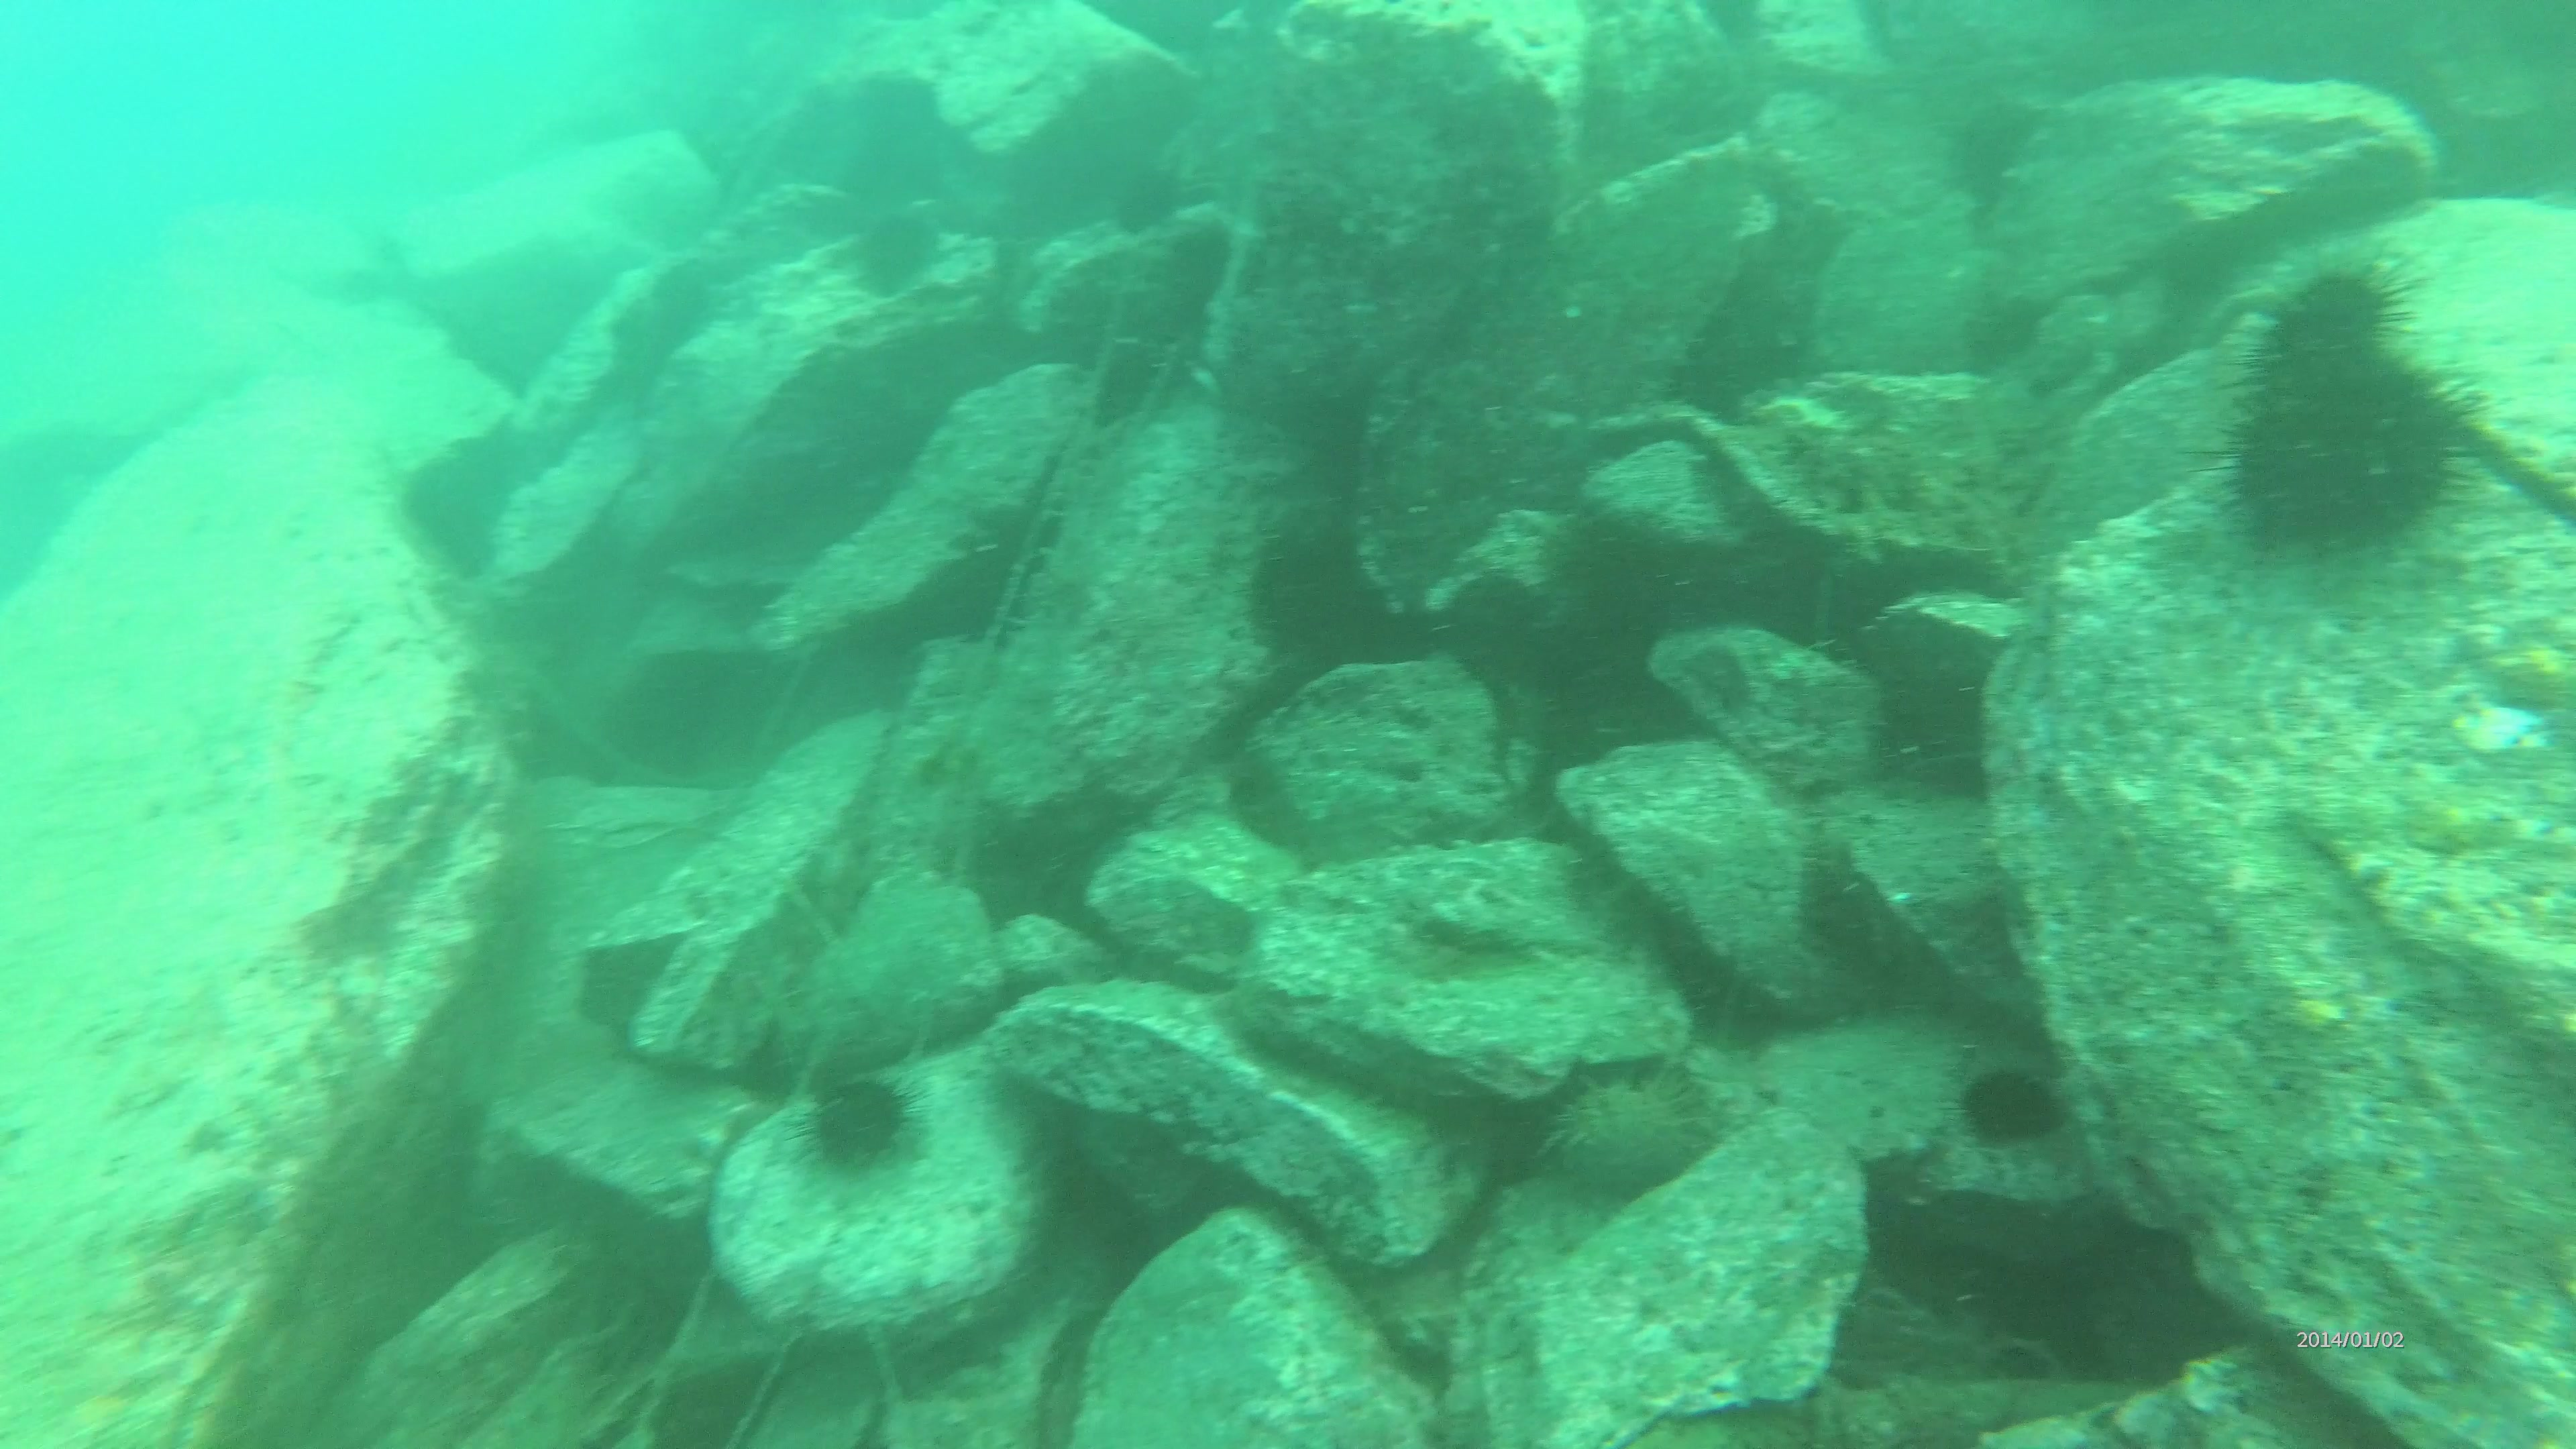echinus: (2206, 356, 2493, 547), (2233, 241, 2415, 419), (1532, 1065, 1732, 1200), (1932, 1037, 2088, 1169), (777, 1077, 939, 1185), (855, 207, 952, 306), (1092, 161, 1185, 232)
holothurian: (679, 847, 902, 1070)
